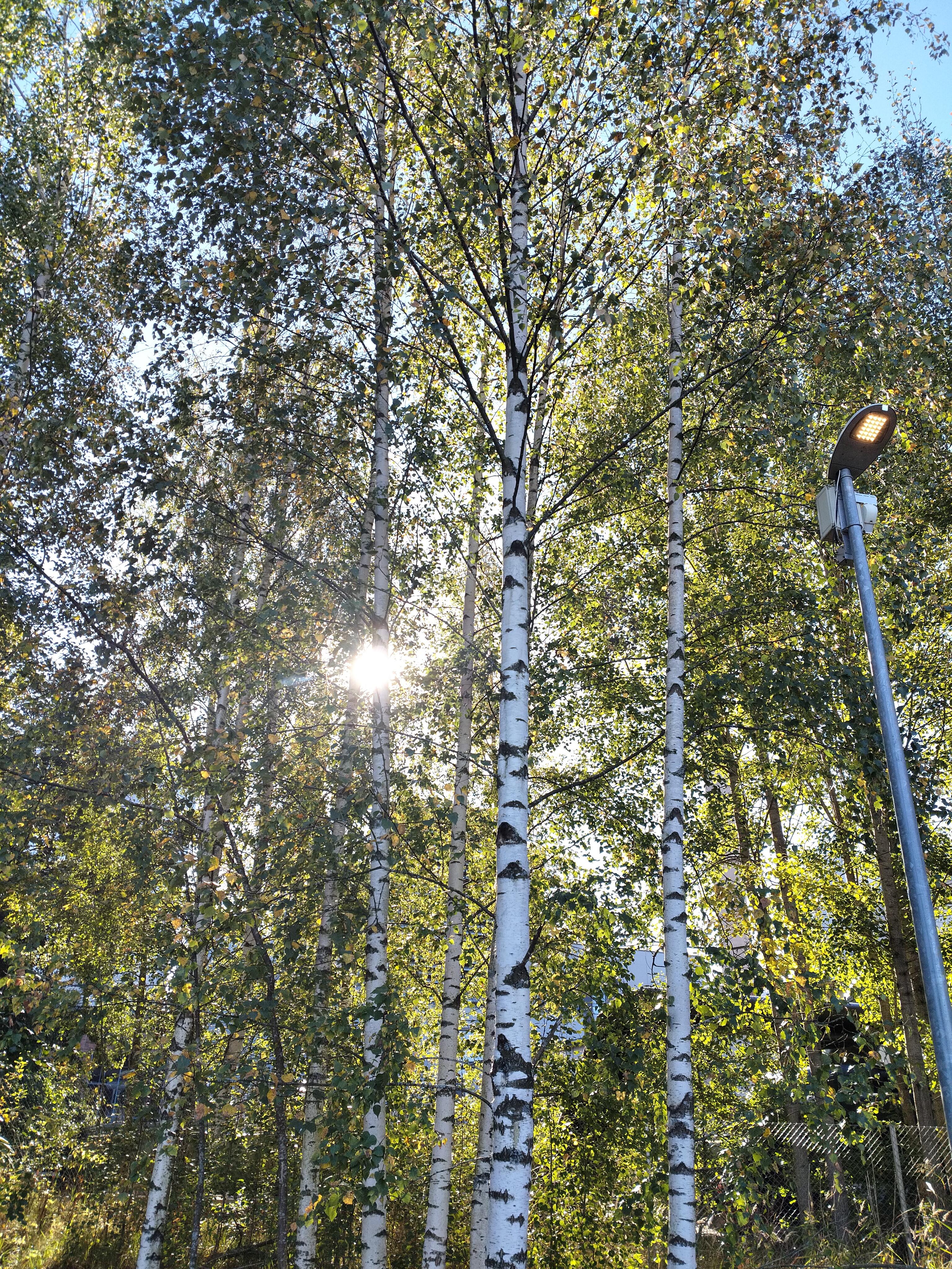Birch: (6, 1, 949, 1267), (94, 0, 323, 1262), (611, 0, 813, 1268), (380, 0, 511, 1258), (338, 0, 429, 1258)
